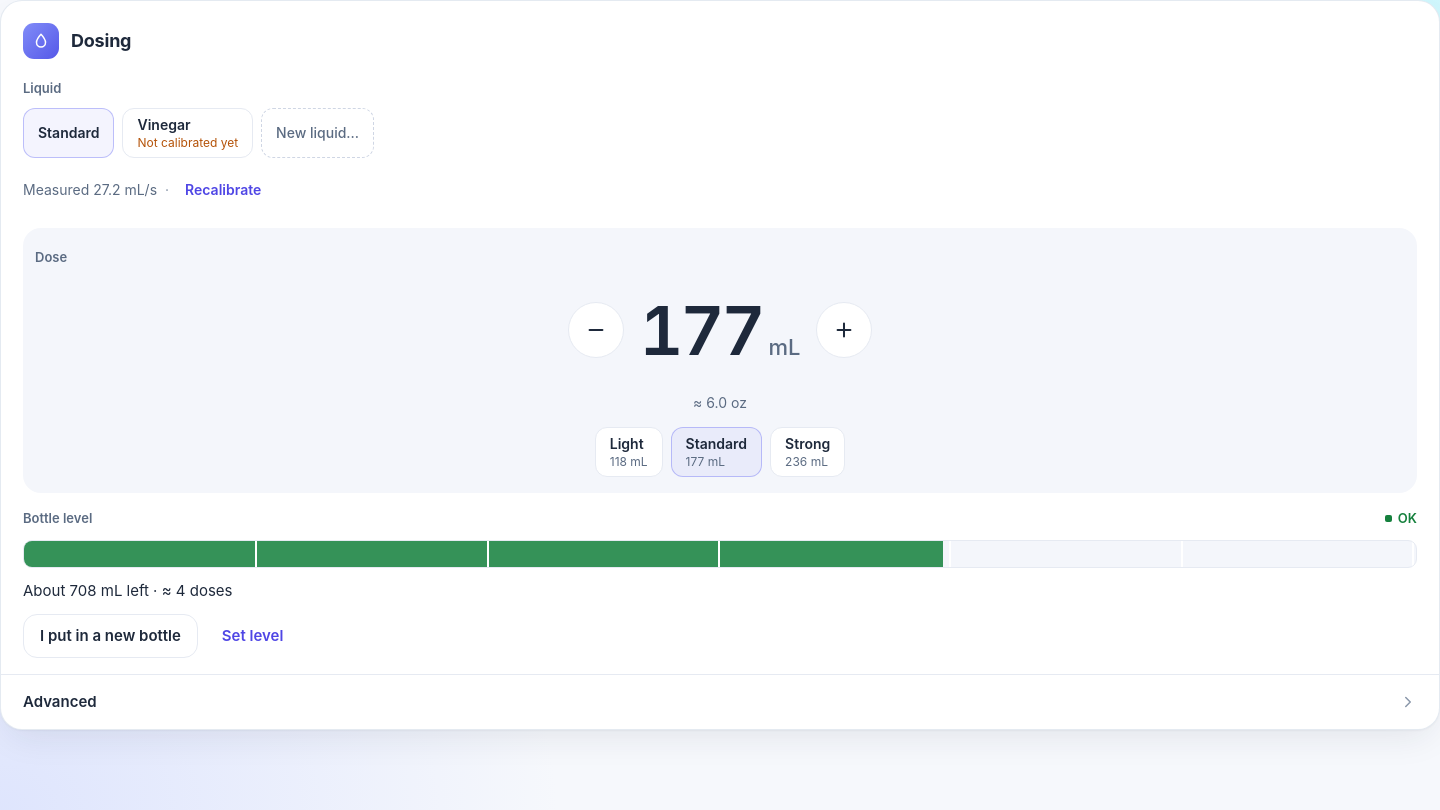
Test case: CalibrateSheet › rejects an implausible amount
Click the button "Recalibrate". click: (223, 190)
box: x1=177 y1=168 x2=269 y2=212
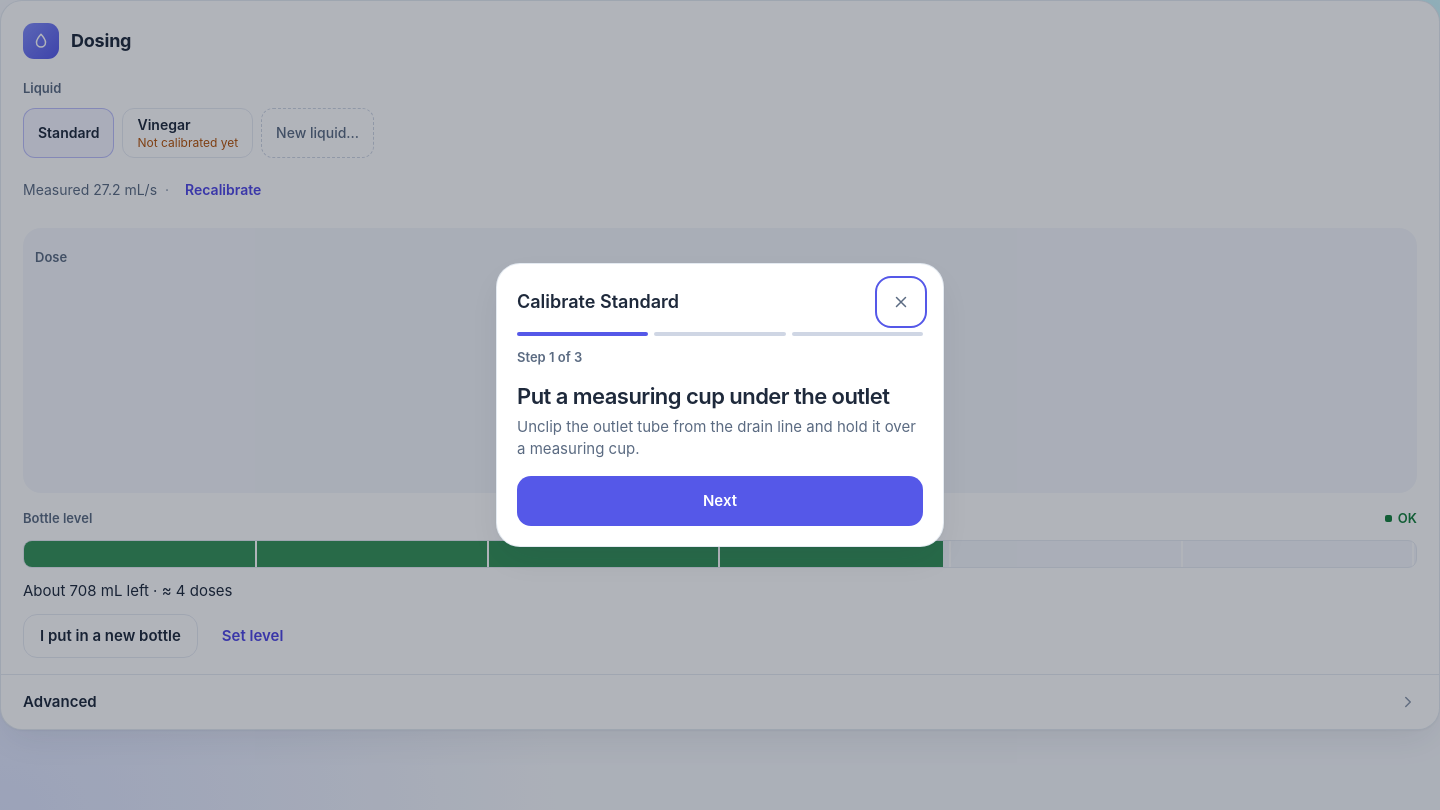
Click the button "Next". click: (720, 501)
box: x1=517 y1=476 x2=923 y2=526
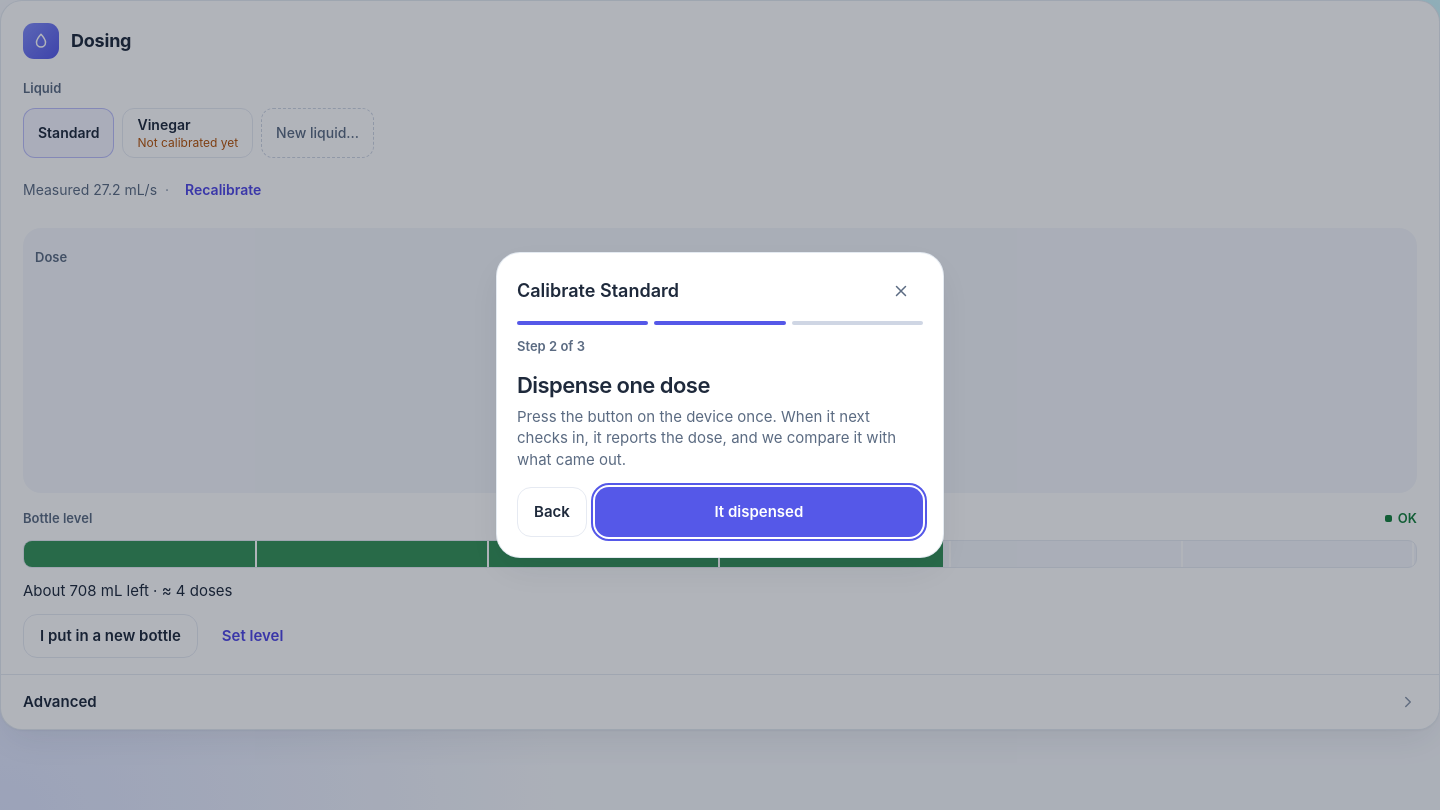
Click the button "It dispensed". click: (759, 512)
box: x1=595 y1=487 x2=923 y2=537
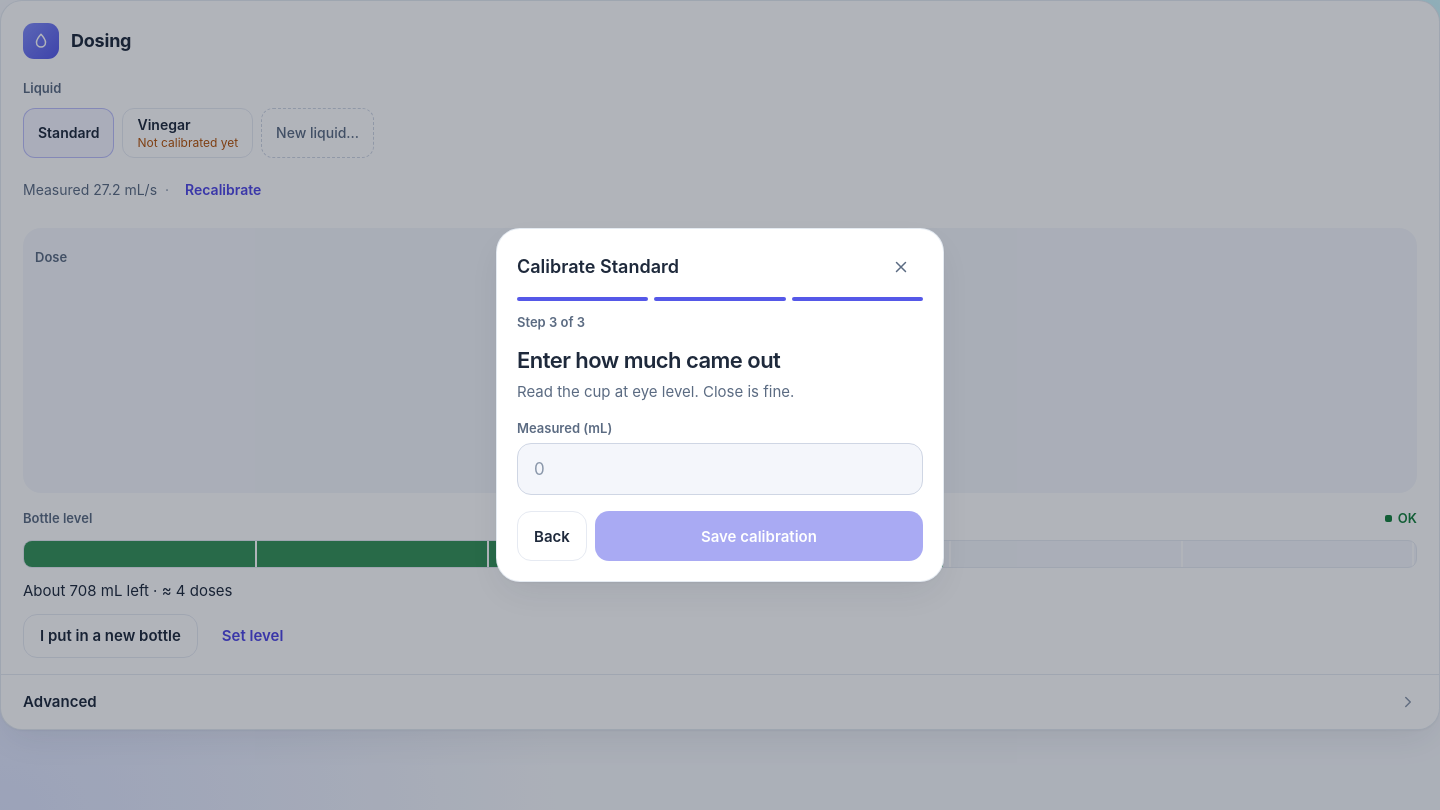
Expected: the button "Save calibration" is disabled, x1=595 y1=512 x2=923 y2=562
Type "9000" into the field labelled "Measured (mL)". click: (720, 470)
box: x1=517 y1=444 x2=923 y2=496
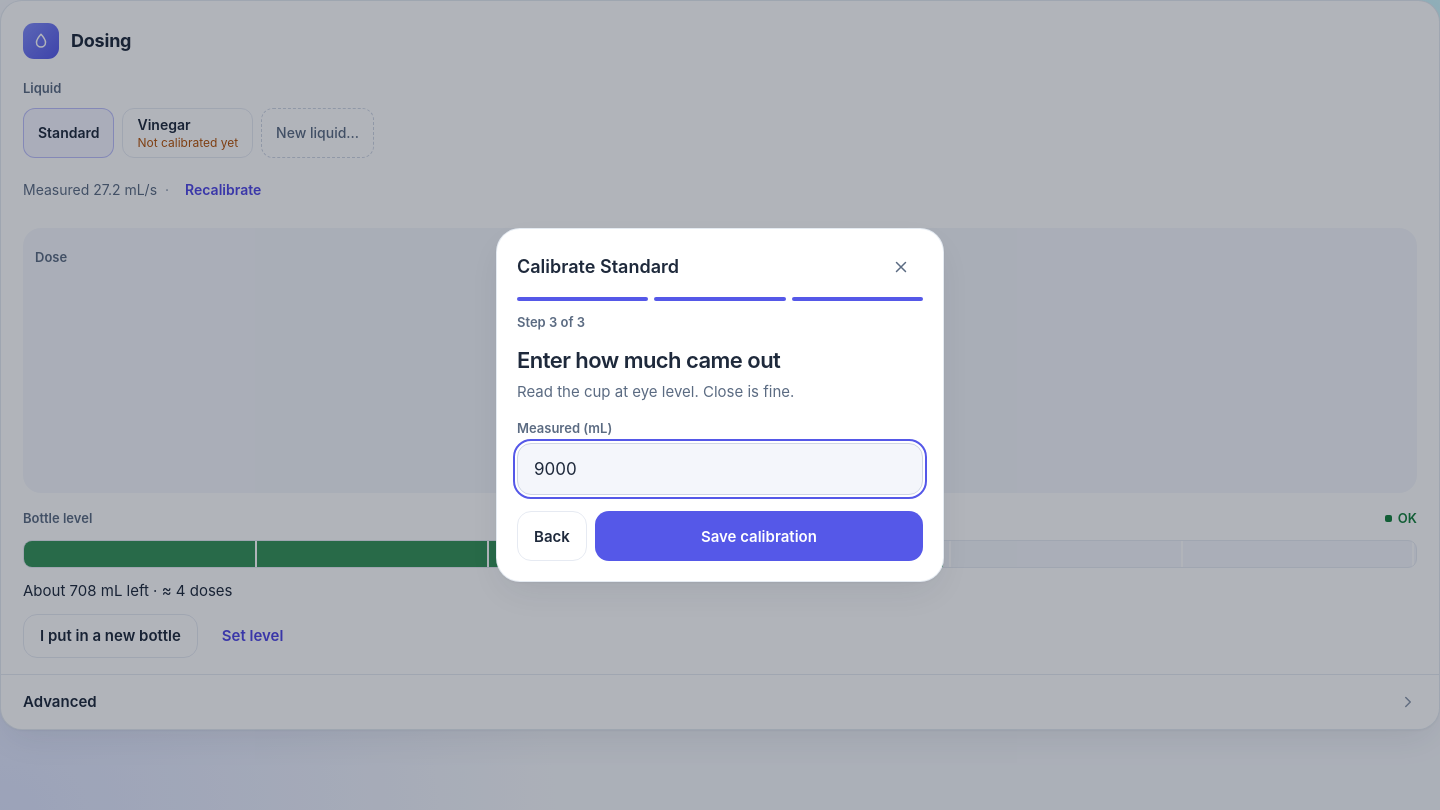
Click the button "Save calibration". click: (759, 536)
box: x1=595 y1=512 x2=923 y2=562
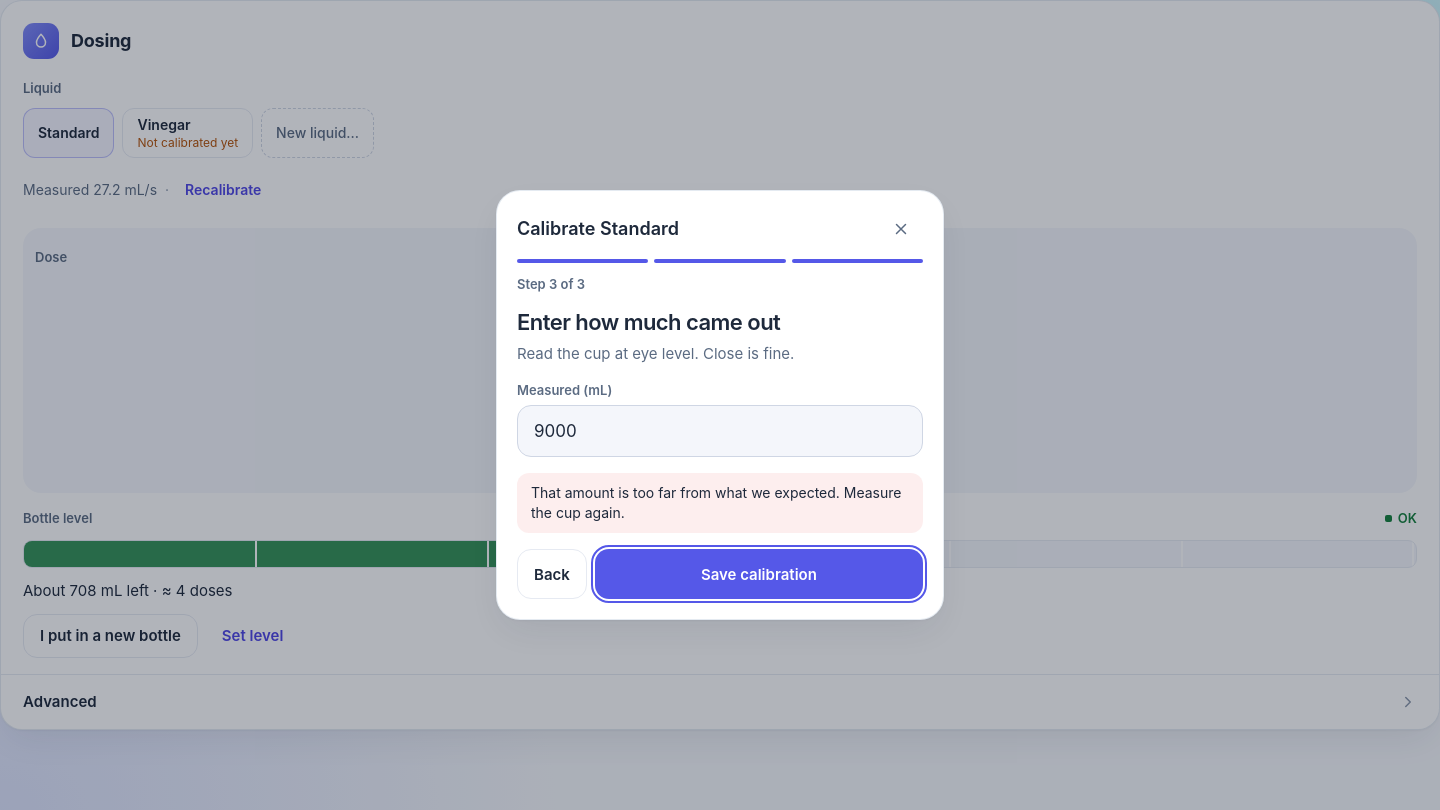
Expected: the message shows "too far from what we expected", x1=531 y1=484 x2=902 y2=522
